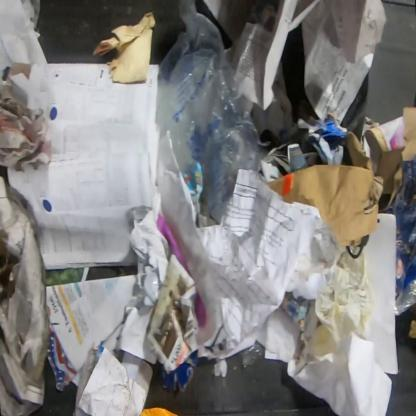cardboard: (266, 131, 384, 247), (377, 107, 416, 214), (387, 164, 416, 303), (297, 112, 348, 166), (0, 226, 23, 310), (161, 348, 199, 392), (406, 319, 415, 345)
soft_plastic: (155, 0, 261, 223), (394, 277, 415, 319)
